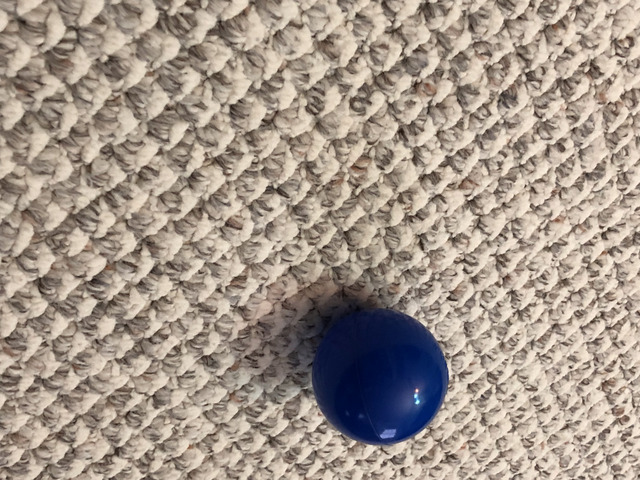Ball: (314, 311, 448, 445)
